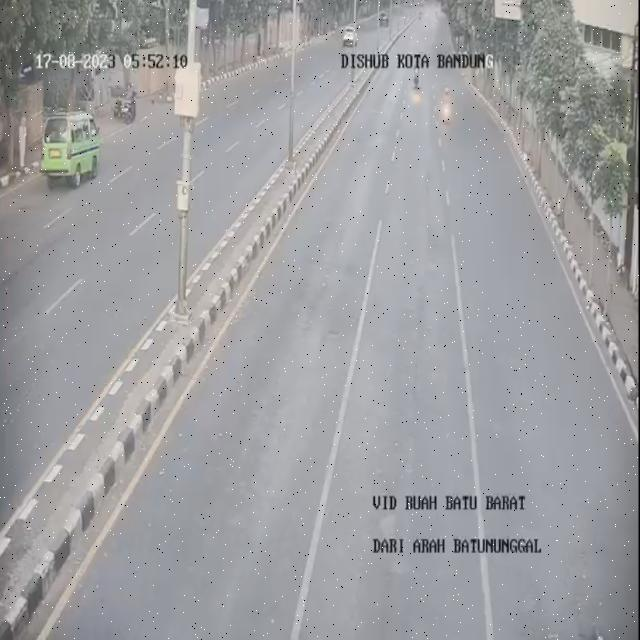motorcycle: (439, 80, 458, 132), (411, 55, 427, 100)
